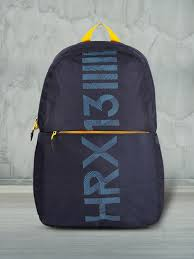backpack: (30, 18, 165, 229)
